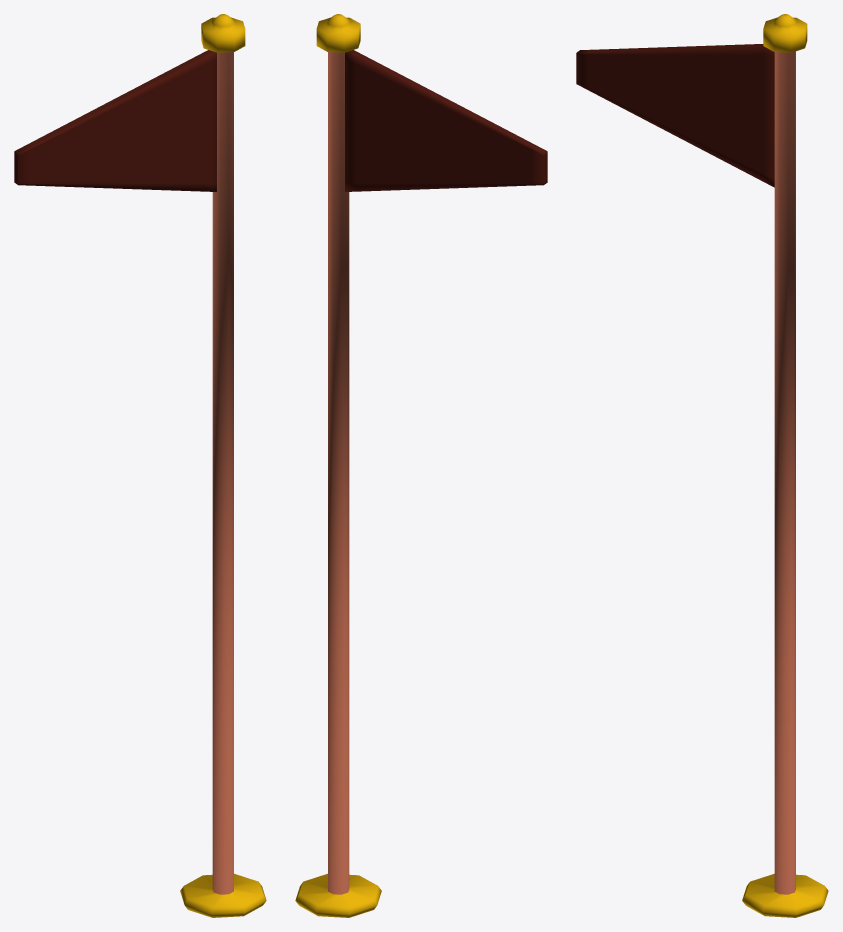
The model's file is Flag.fbx.
3 renders of one model, left to right at view 1: azimuth 30°, elevation 25°; view 2: azimuth 150°, elevation 25°; view 3: azimuth 330°, elevation 25°, orthographic.
Parts seen in each view (by area): view 1: FlagPole, Flag; view 2: FlagPole, Flag; view 3: FlagPole, Flag.
Part boxes in pixels (x1,y1,x2,y2): FlagPole: (180, 14, 266, 917); Flag: (14, 50, 216, 191); FlagPole: (295, 14, 381, 917); Flag: (345, 50, 547, 191); FlagPole: (742, 14, 828, 917); Flag: (576, 44, 774, 187).
Size of the model in its own units: 2.57 by 8.85 by 0.8115.
